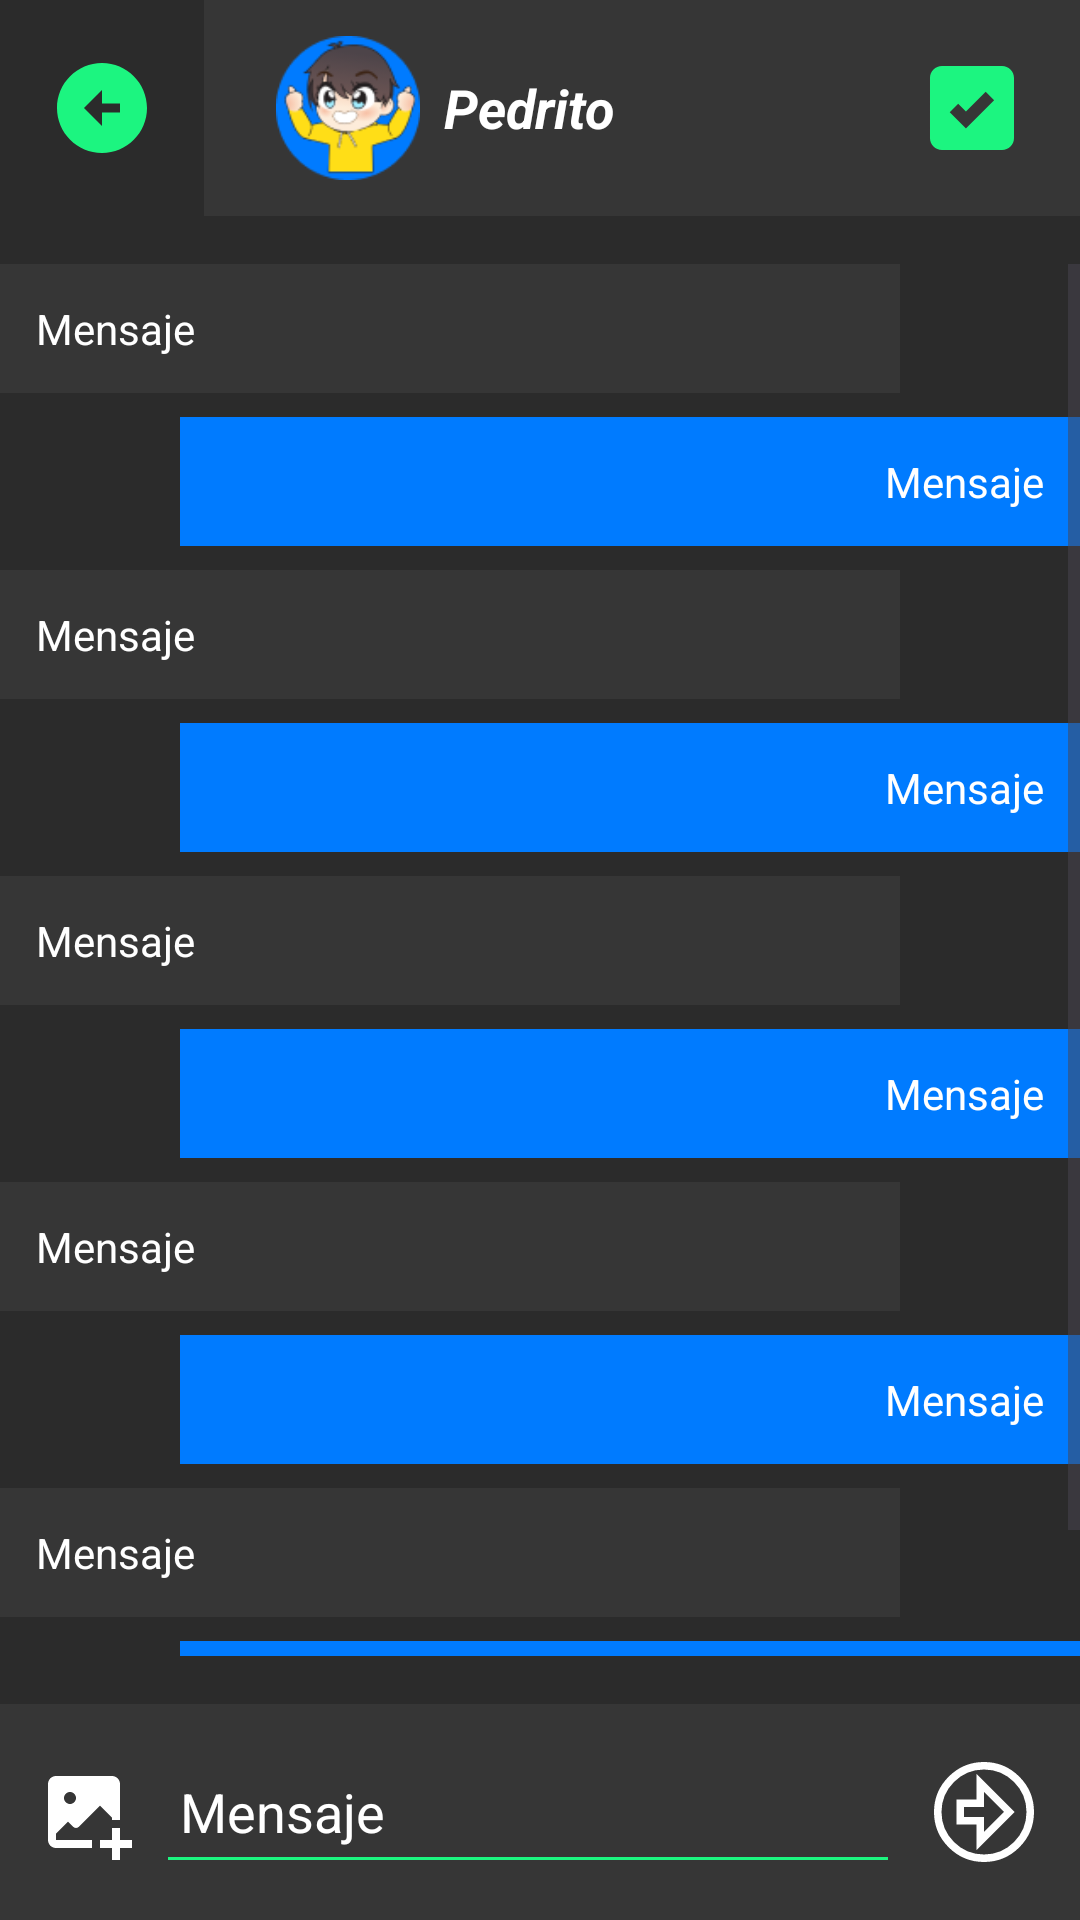

Where to tap for icons on this 1080px×1920px app screen, as point (x, y):
Adjuntar imagen: point (90, 1818)
checkbox: point (972, 108)
return: point (102, 108)
send: point (984, 1812)
